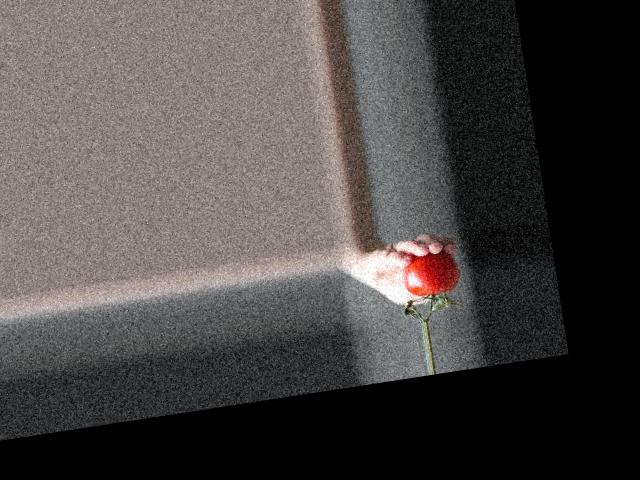tomato: (399, 248, 462, 300)
